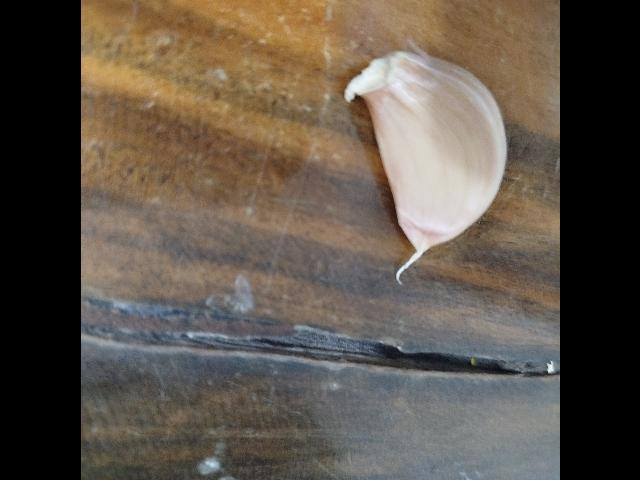garlic: (342, 39, 508, 285)
